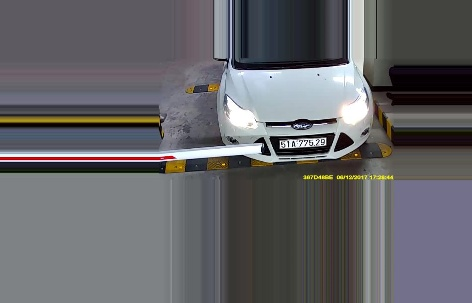plate: (279, 136, 326, 148)
